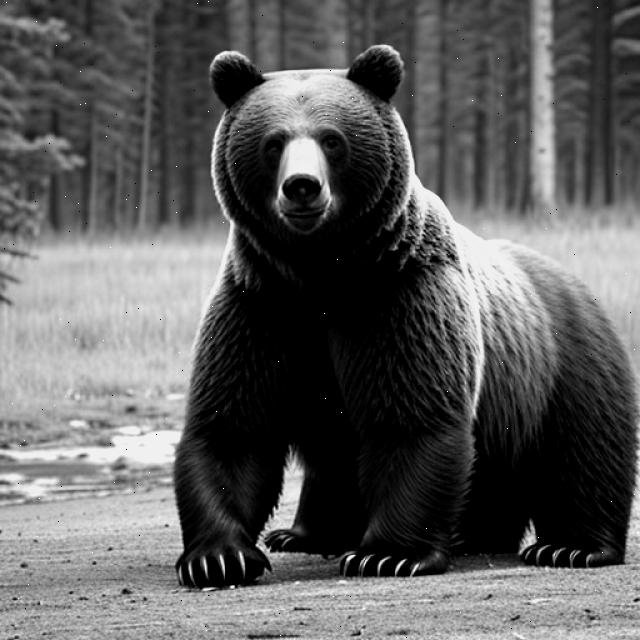bear: (191, 48, 457, 260)
